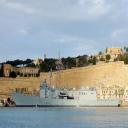Fragata: (10, 69, 123, 108)
